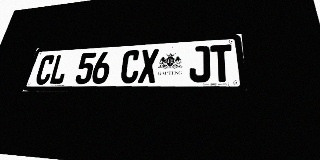5: (74, 52, 97, 84)
6: (91, 51, 113, 84)
C: (119, 50, 141, 83), (34, 55, 56, 85)
J: (189, 46, 210, 82)
L: (48, 54, 70, 85)
T: (210, 44, 234, 82)
X: (138, 49, 159, 83)
